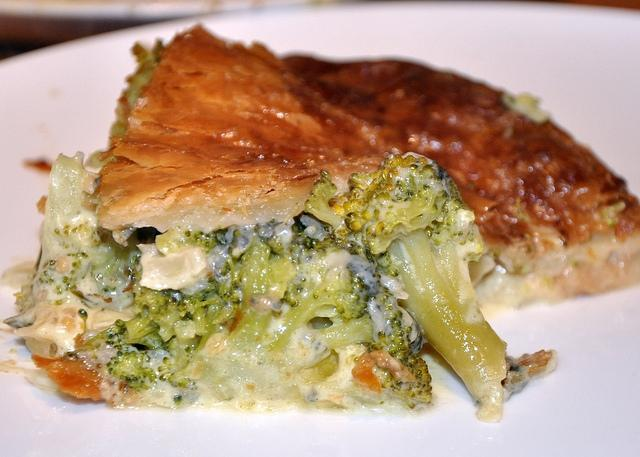broccoli: (303, 152, 507, 424), (13, 151, 142, 315), (266, 225, 382, 354), (363, 311, 432, 408), (182, 280, 225, 336), (106, 347, 158, 384), (122, 66, 156, 110), (153, 308, 185, 342)
